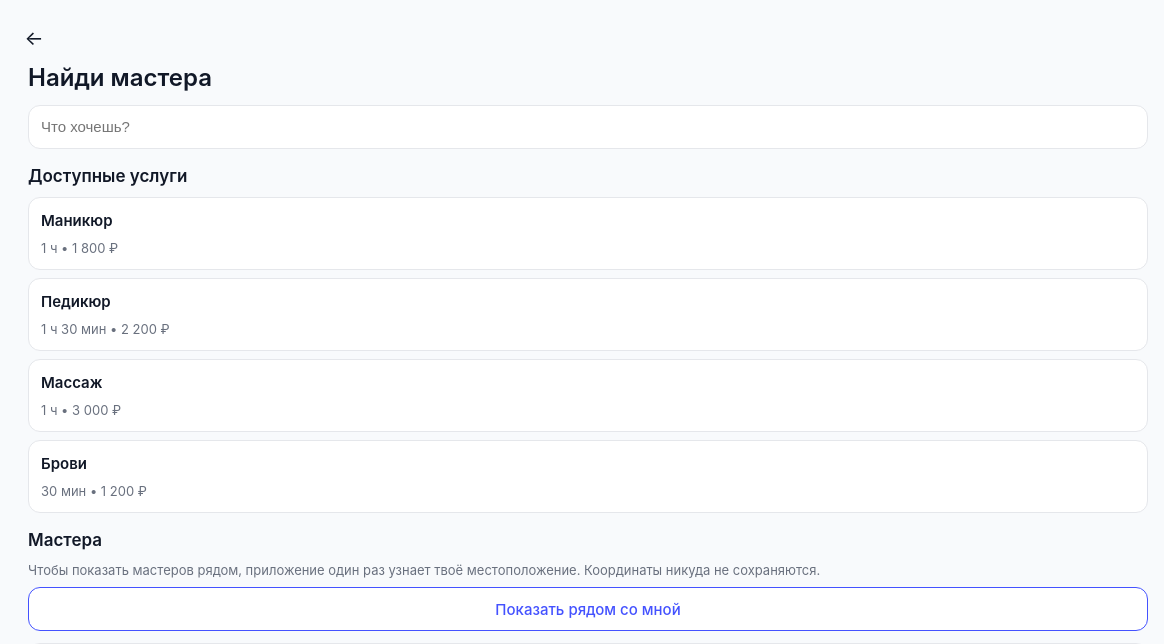
CustomerCatalogScreen (real mirror data) › filters the services list by the search query
In the search field named "Поиск по услугам": (588, 127) [28,105,1148,149], type "ман"
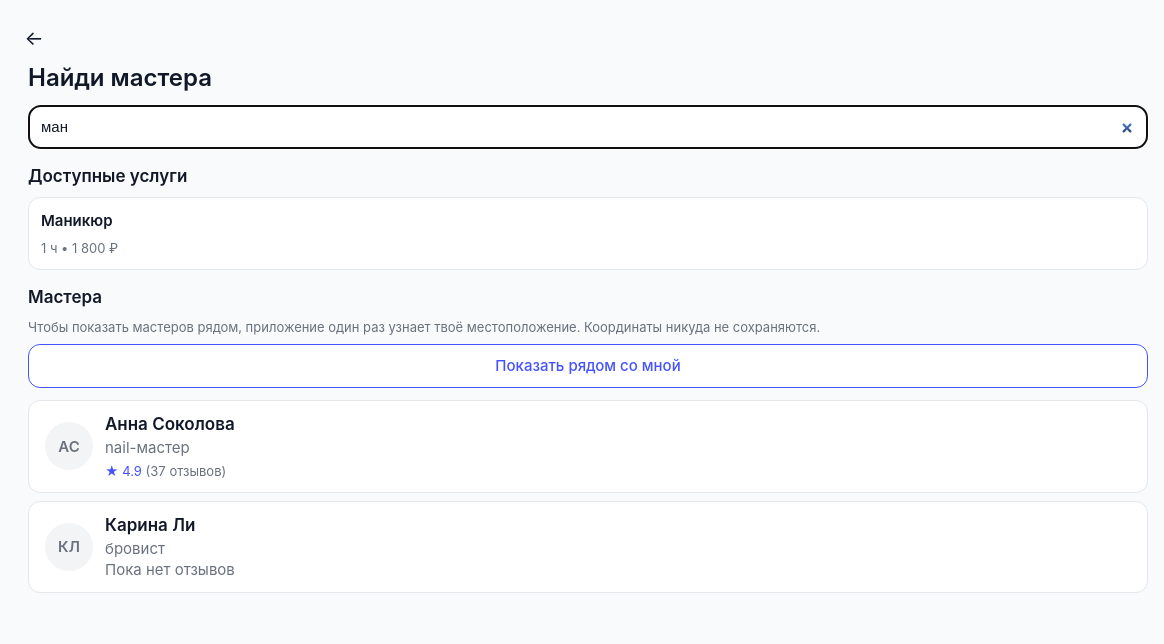
Expected: the text "Маникюр" is shown, [41,210,113,231]
Expected: the button "Педикюр" is gone
